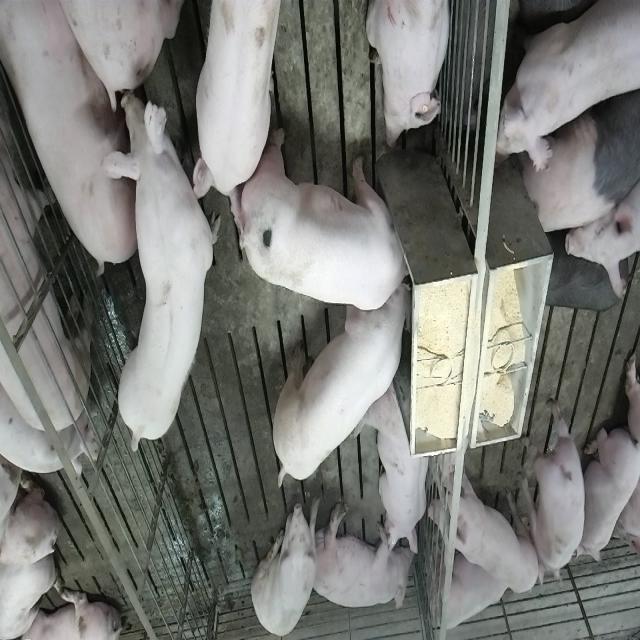Feeding: (240, 126, 420, 312), (268, 282, 410, 496)
Lateral_lying: (310, 502, 416, 614)
Sitting: (252, 492, 320, 637)
Standing: (0, 0, 94, 440), (112, 86, 220, 450), (498, 3, 638, 180), (520, 73, 638, 245), (196, 0, 290, 198), (426, 462, 540, 594)
Sternal_lying: (366, 0, 454, 150), (359, 376, 432, 556), (531, 395, 591, 583), (580, 422, 640, 570), (428, 544, 514, 634)
